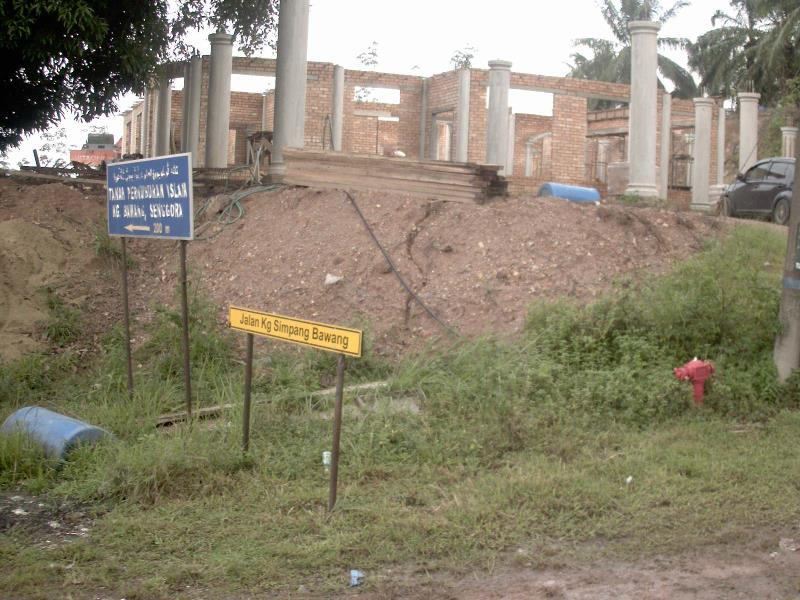ads_sign: (98, 148, 205, 248), (220, 295, 367, 362)
